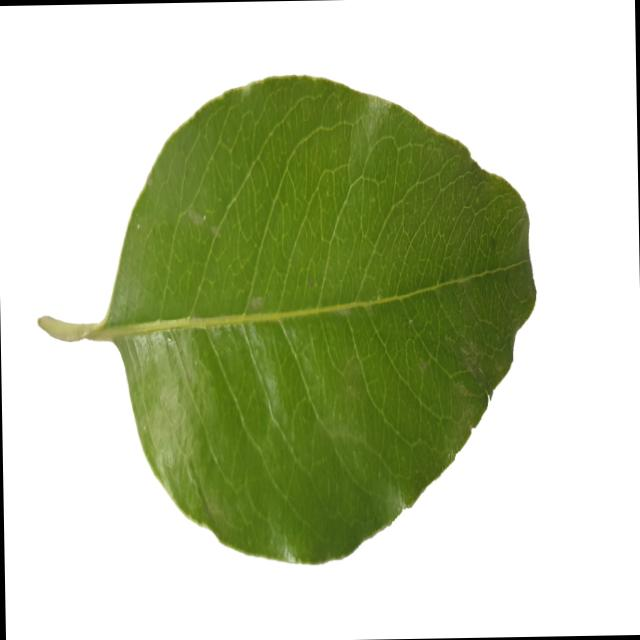Medicinal-Sandalwood: (31, 66, 542, 574)
